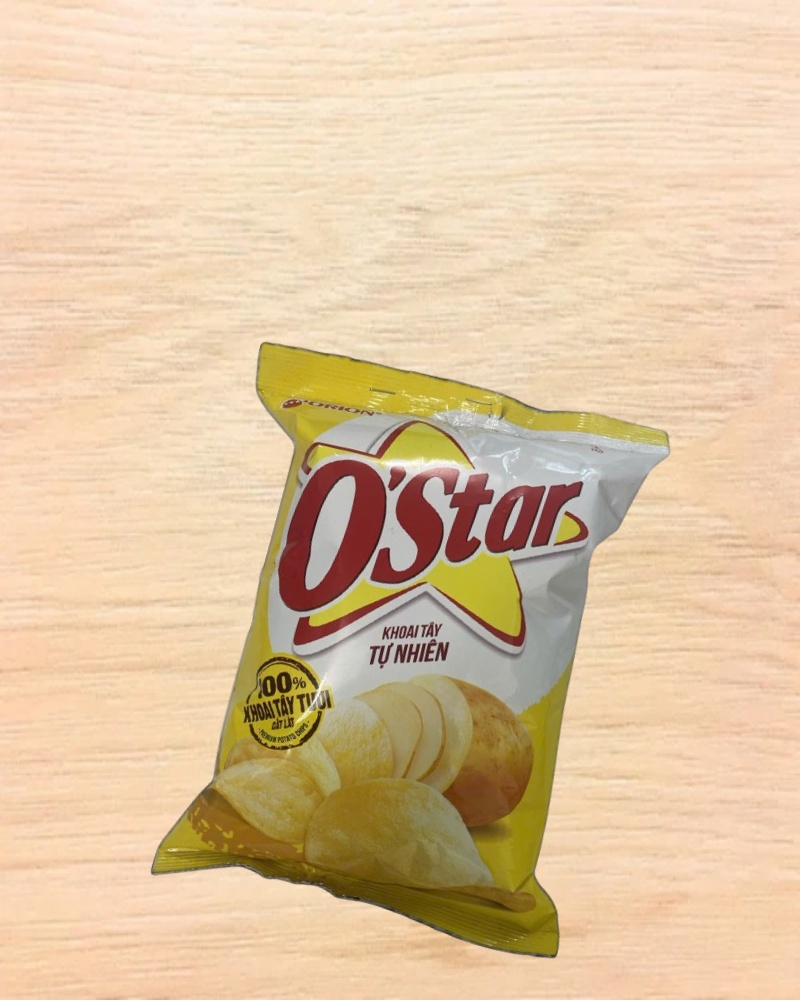O'star: (123, 325, 695, 981)
